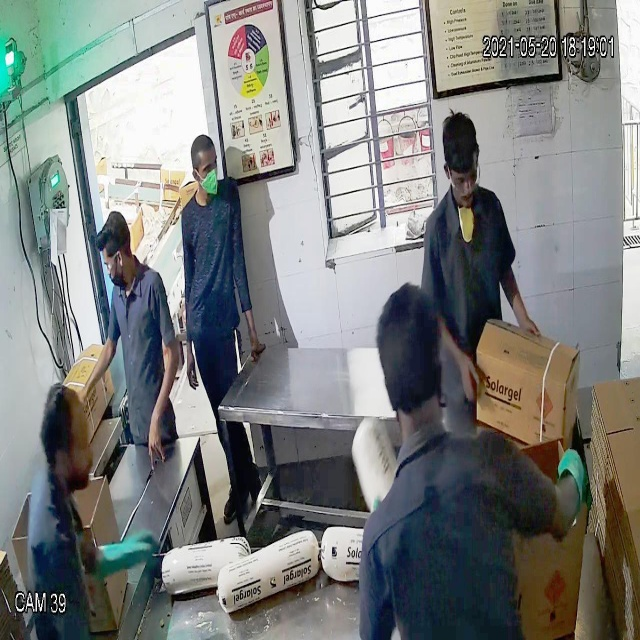Gafas: (444, 159, 482, 196)
Sin_gafas: (190, 156, 220, 179)
